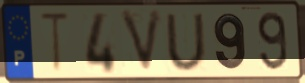4: (83, 10, 119, 76)
9: (211, 10, 248, 73), (255, 10, 289, 73)
T: (38, 10, 73, 76)
U: (164, 11, 209, 73)
V: (118, 8, 166, 77)
